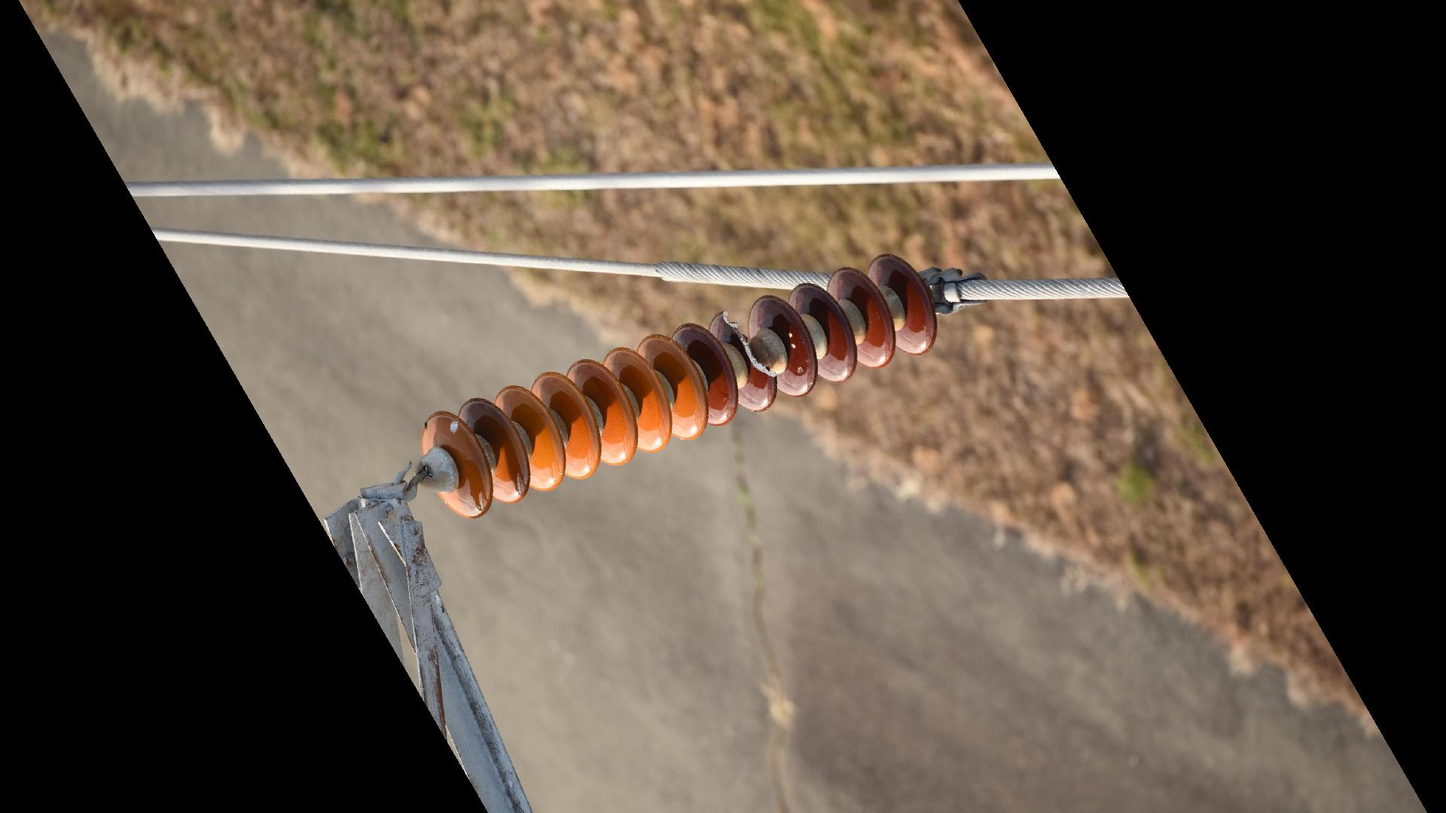insulator: (411, 247, 948, 527)
insulator_breakage: (712, 306, 781, 389)
